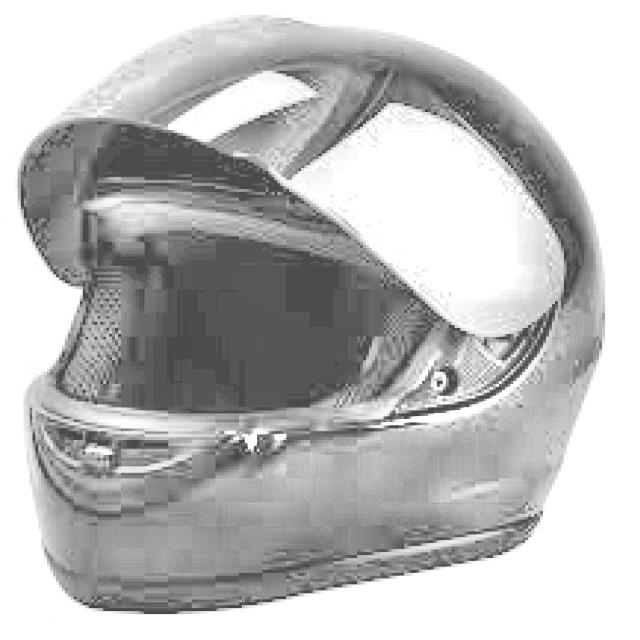Helmet: (13, 1, 608, 622)
